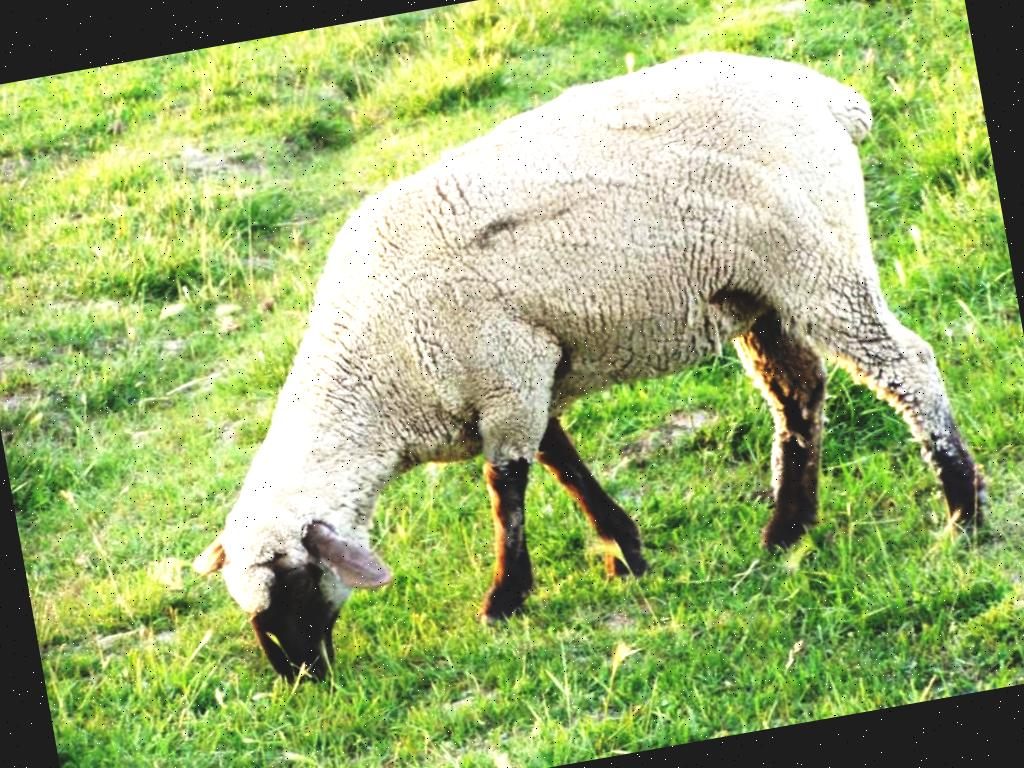Sheep: (116, 26, 1010, 718)
